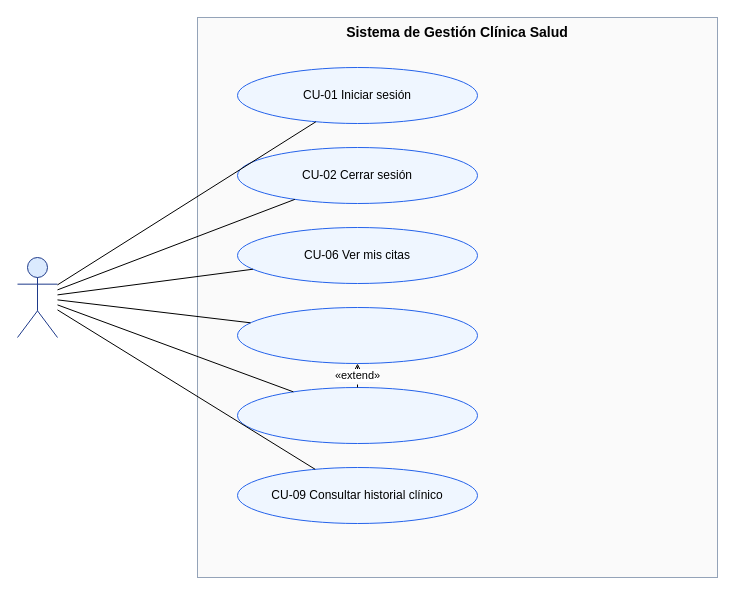
Some shapes in this 735 by 595 pixel diagram are drawn without their labels. The shapes that lost their labels are listed below. From the top down, each one's centre as x and y in pixels, then its label:
(37,297): Médico
(357,335): CU-07 Atender cita / cambiar estado
(357,415): CU-08 Registrar y actualizar historial clínico
